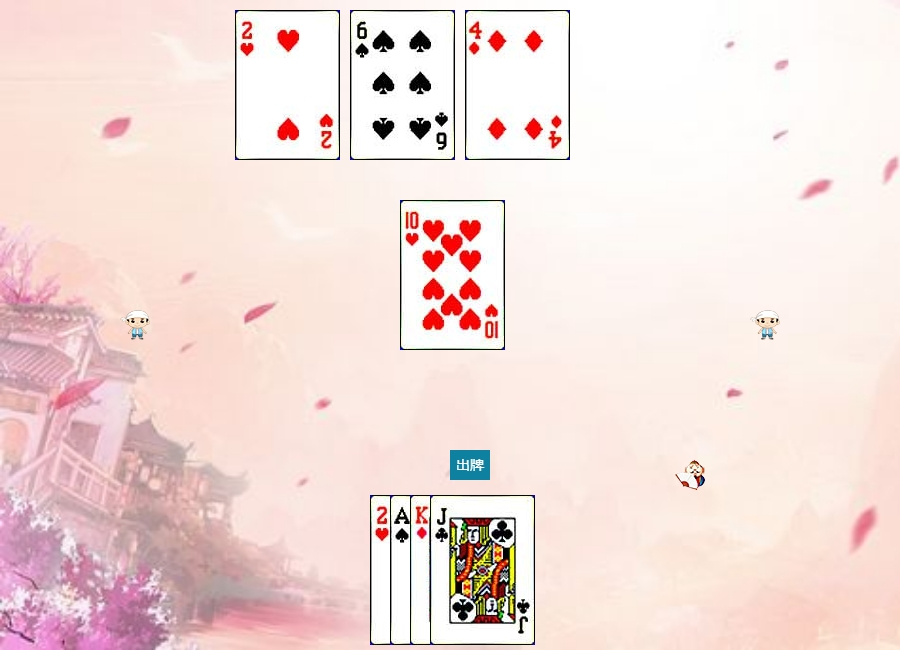10~3: (400, 200, 505, 350)
11~2: (430, 495, 535, 645)
13~1: (410, 495, 515, 645)
14~4: (390, 495, 495, 645)
15~3: (235, 10, 340, 160), (370, 495, 475, 645)
4~1: (465, 10, 570, 160)
6~4: (350, 10, 455, 160)
